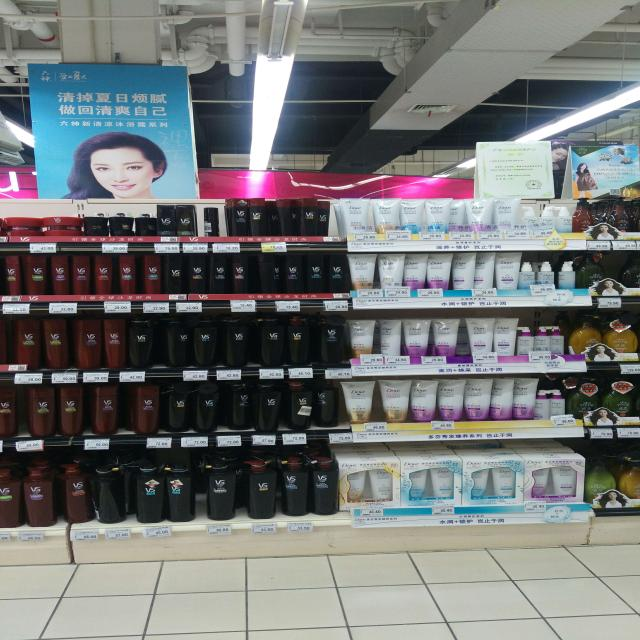unorganised: (205, 454, 276, 524), (95, 380, 156, 435), (93, 457, 129, 523), (58, 456, 91, 526), (490, 375, 537, 420), (164, 312, 194, 368), (311, 380, 343, 430), (522, 203, 574, 233), (266, 198, 301, 236), (378, 315, 403, 365), (257, 250, 283, 293), (534, 323, 565, 355), (537, 387, 565, 422), (555, 259, 578, 292), (199, 204, 222, 236), (316, 199, 332, 237), (452, 196, 466, 235)
